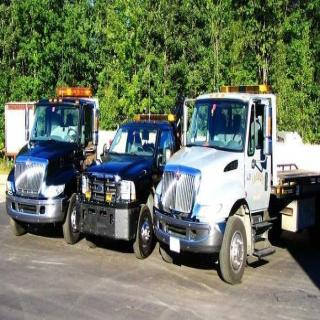Towing_truck: (66, 110, 182, 260), (5, 84, 100, 244)
